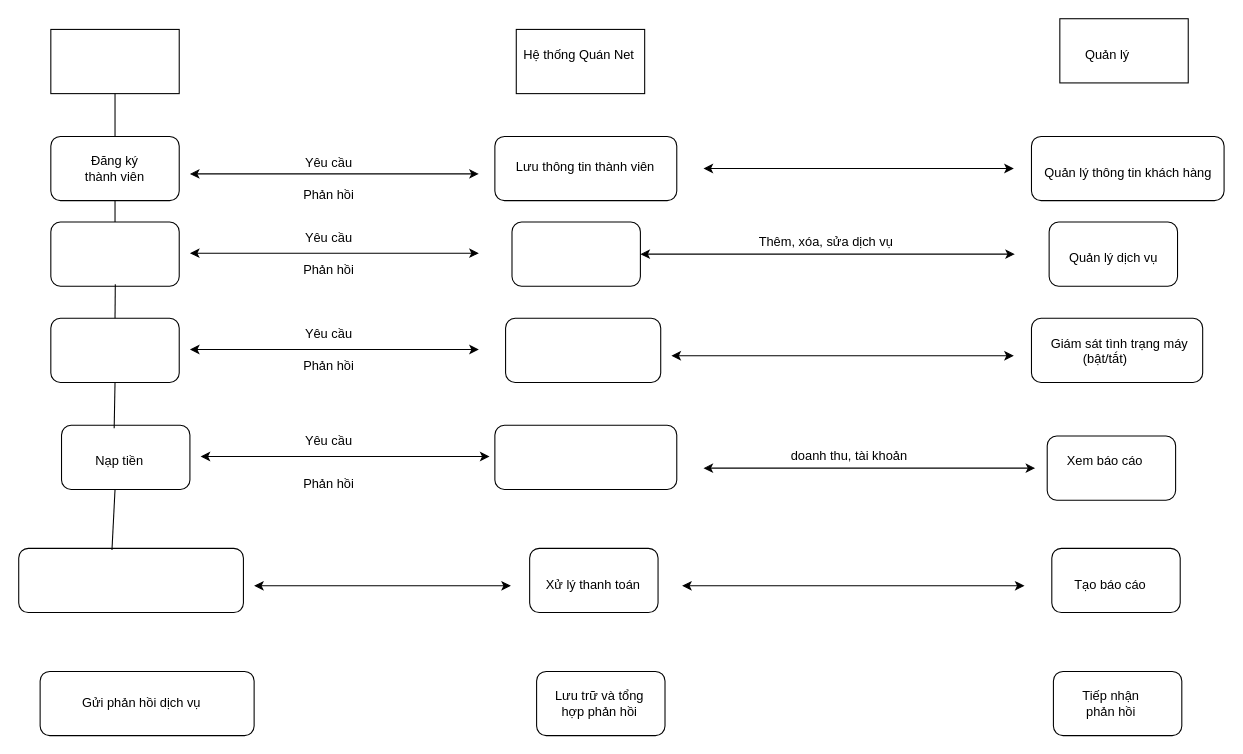
This 1243x754 diagram has some shape labels left out. The shapes that lost their labels are listed below. From the top down, each one's centre as x and y in pixels, then its label:
[114,61]: Khách hàng
[114,253]: Yêu cầu dịch vụ
[575,253]: Xác nhận dịch vụ
[114,350]: Yêu cầu máy tính
[583,350]: Kiểm tra máy trống
[585,457]: Cập nhật số dư tài khoản
[130,580]: Kết thúc phiên & thanh toán
